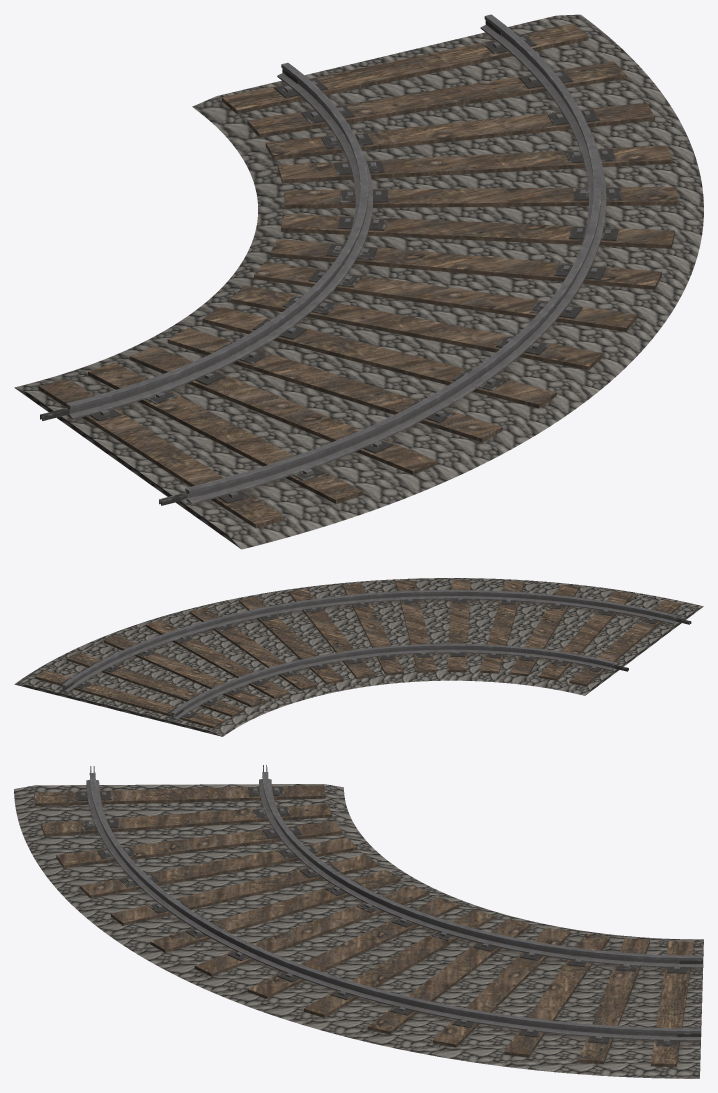
File: feRailCurve_HD.fbx
The picture shows the model from 3 angles, top to bottom: view 1: azimuth 30°, elevation 25°; view 2: azimuth 150°, elevation 25°; view 3: azimuth 270°, elevation 25°; orthographic projection. The views are drawn at different scales.
Parts seen in each view (by area): view 1: feRailCurve_Track; view 2: feRailCurve_Track; view 3: feRailCurve_Track.
Part boxes in pixels (x1,y1,x2,y2): feRailCurve_Track: (14, 14, 703, 549); feRailCurve_Track: (14, 578, 703, 736); feRailCurve_Track: (14, 765, 703, 1078).
Size of the model in its own units: 6.13 by 0.15 by 5.94.
Materials: 1 (1 with a texture image).
